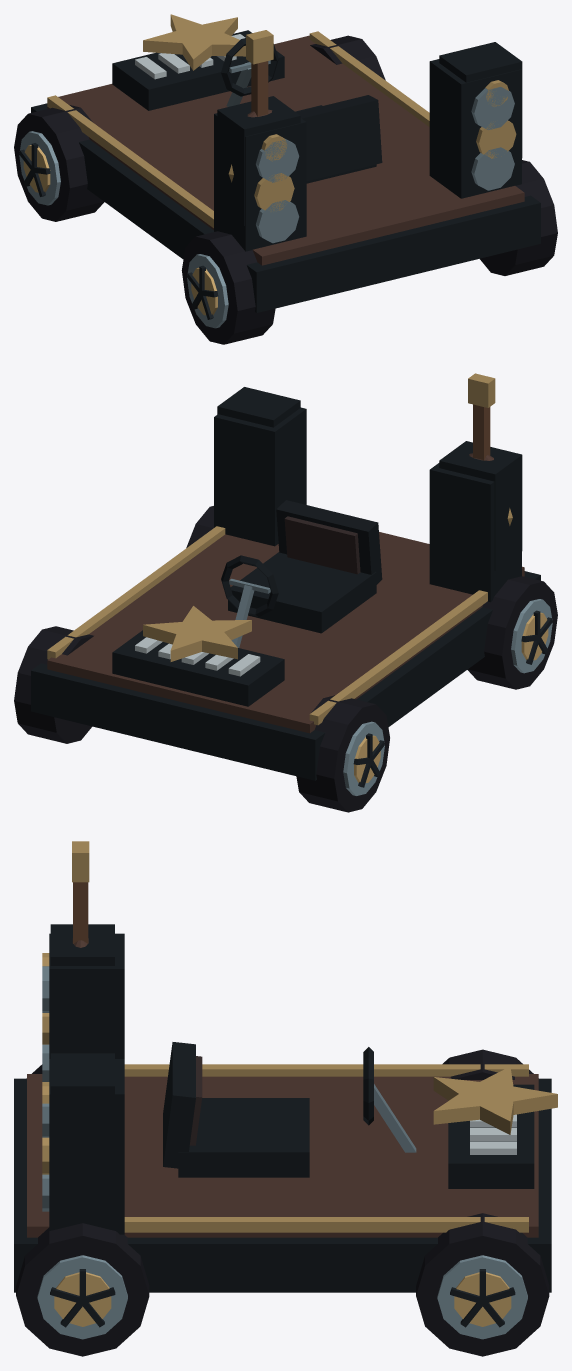
Rendered from kart.glb.
3 views of the same model, one above another, from view 1: azimuth 30°, elevation 25°; view 2: azimuth 150°, elevation 25°; view 3: azimuth 270°, elevation 25° (orthographic). The views are drawn at different scales.
Parts seen in each view (by area): view 1: identity-stage-stage-platform-and-pa-towers, identity-stage-motif-speakers, wheel-front-left, wheel-rear-left, identity-stage-driver-cockpit, identity-stage-motif-star, wheel-rear-right, identity-stage-motif-guitar, wheel-front-right; view 2: identity-stage-stage-platform-and-pa-towers, identity-stage-driver-cockpit, wheel-front-left, wheel-rear-left, identity-stage-motif-speakers, wheel-front-right, identity-stage-motif-star, identity-stage-motif-guitar; view 3: identity-stage-stage-platform-and-pa-towers, identity-stage-driver-cockpit, wheel-front-right, wheel-rear-right, identity-stage-motif-speakers, identity-stage-motif-star, identity-stage-motif-guitar, wheel-front-left.
Part boxes in pixels (x1=…): identity-stage-stage-platform-and-pa-towers: x1=31, y1=30, x2=540, y2=312; identity-stage-motif-speakers: x1=217, y1=42, x2=522, y2=225; wheel-front-left: x1=14, y1=105, x2=104, y2=221; wheel-rear-left: x1=181, y1=231, x2=275, y2=344; identity-stage-driver-cockpit: x1=221, y1=38, x2=382, y2=183; identity-stage-motif-star: x1=143, y1=14, x2=245, y2=70; wheel-rear-right: x1=480, y1=160, x2=557, y2=275; identity-stage-motif-guitar: x1=228, y1=30, x2=273, y2=182; wheel-front-right: x1=310, y1=35, x2=385, y2=80; identity-stage-stage-platform-and-pa-towers: x1=31, y1=407, x2=540, y2=780; identity-stage-driver-cockpit: x1=221, y1=500, x2=382, y2=647; wheel-front-left: x1=296, y1=695, x2=389, y2=812; wheel-rear-left: x1=467, y1=576, x2=557, y2=689; identity-stage-motif-speakers: x1=217, y1=387, x2=522, y2=570; wheel-front-right: x1=14, y1=626, x2=93, y2=743; identity-stage-motif-star: x1=143, y1=606, x2=251, y2=661; identity-stage-motif-guitar: x1=468, y1=373, x2=512, y2=525; identity-stage-stage-platform-and-pa-towers: x1=14, y1=933, x2=551, y2=1292; identity-stage-driver-cockpit: x1=163, y1=1042, x2=416, y2=1177; wheel-front-right: x1=416, y1=1213, x2=549, y2=1356; wheel-rear-right: x1=16, y1=1223, x2=149, y2=1356; identity-stage-motif-speakers: x1=42, y1=924, x2=114, y2=1200; identity-stage-motif-star: x1=433, y1=1066, x2=557, y2=1134; identity-stage-motif-guitar: x1=72, y1=841, x2=89, y2=947; wheel-front-left: x1=442, y1=1049, x2=533, y2=1079.
Bounding box in the file's own units: 2.16 × 1.8 × 2.53.
